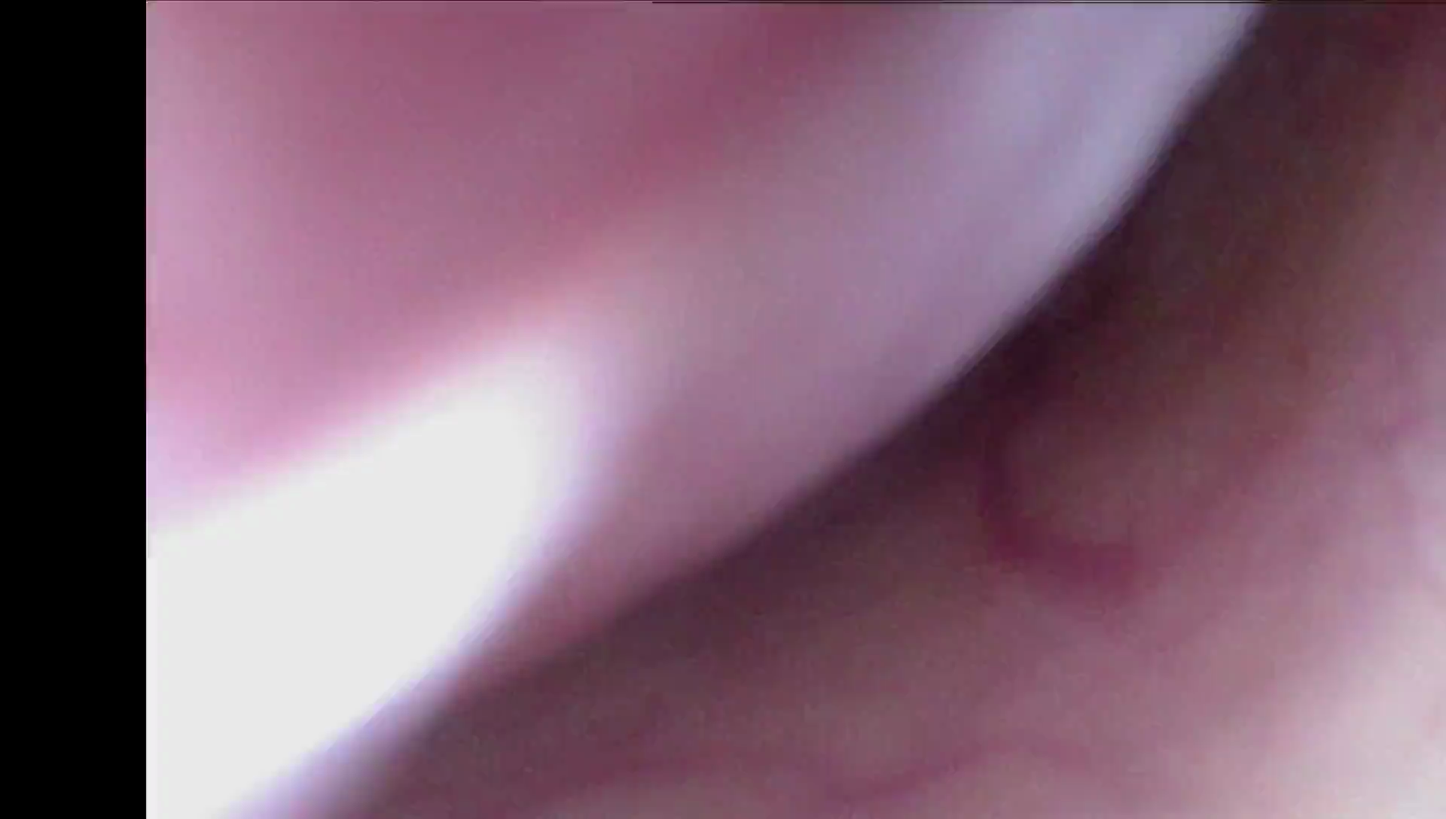close_wall: (161, 272, 666, 800), (1120, 458, 1446, 819)
next: (889, 174, 1153, 501)
